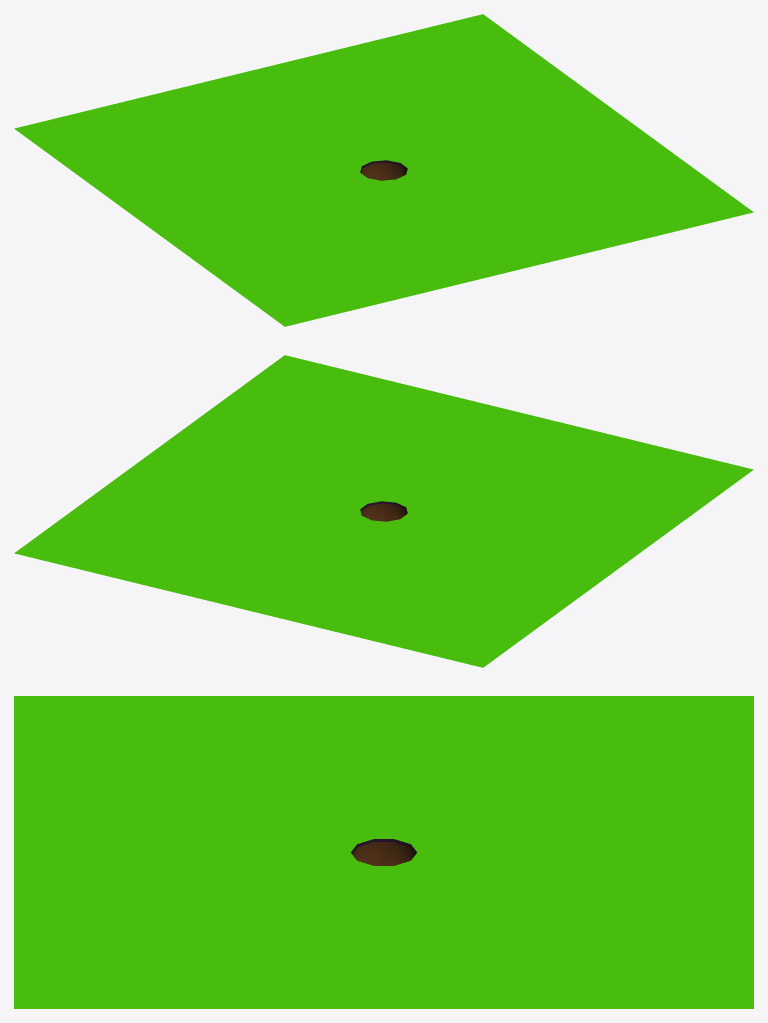
File: GolfFloor.fbx
The picture shows the model from 3 angles, top to bottom: view 1: azimuth 30°, elevation 25°; view 2: azimuth 150°, elevation 25°; view 3: azimuth 270°, elevation 25°; orthographic projection. The views are drawn at different scales.
Parts seen in each view (by area): view 1: Plane; view 2: Plane; view 3: Plane.
Boxes of the visible parts, left/top/right/bottom form: Plane: left=14, top=14, right=753, bottom=326; Plane: left=14, top=355, right=753, bottom=667; Plane: left=14, top=696, right=753, bottom=1008.
Bounding box in the file's own units: 4000 × 256 × 4000.
